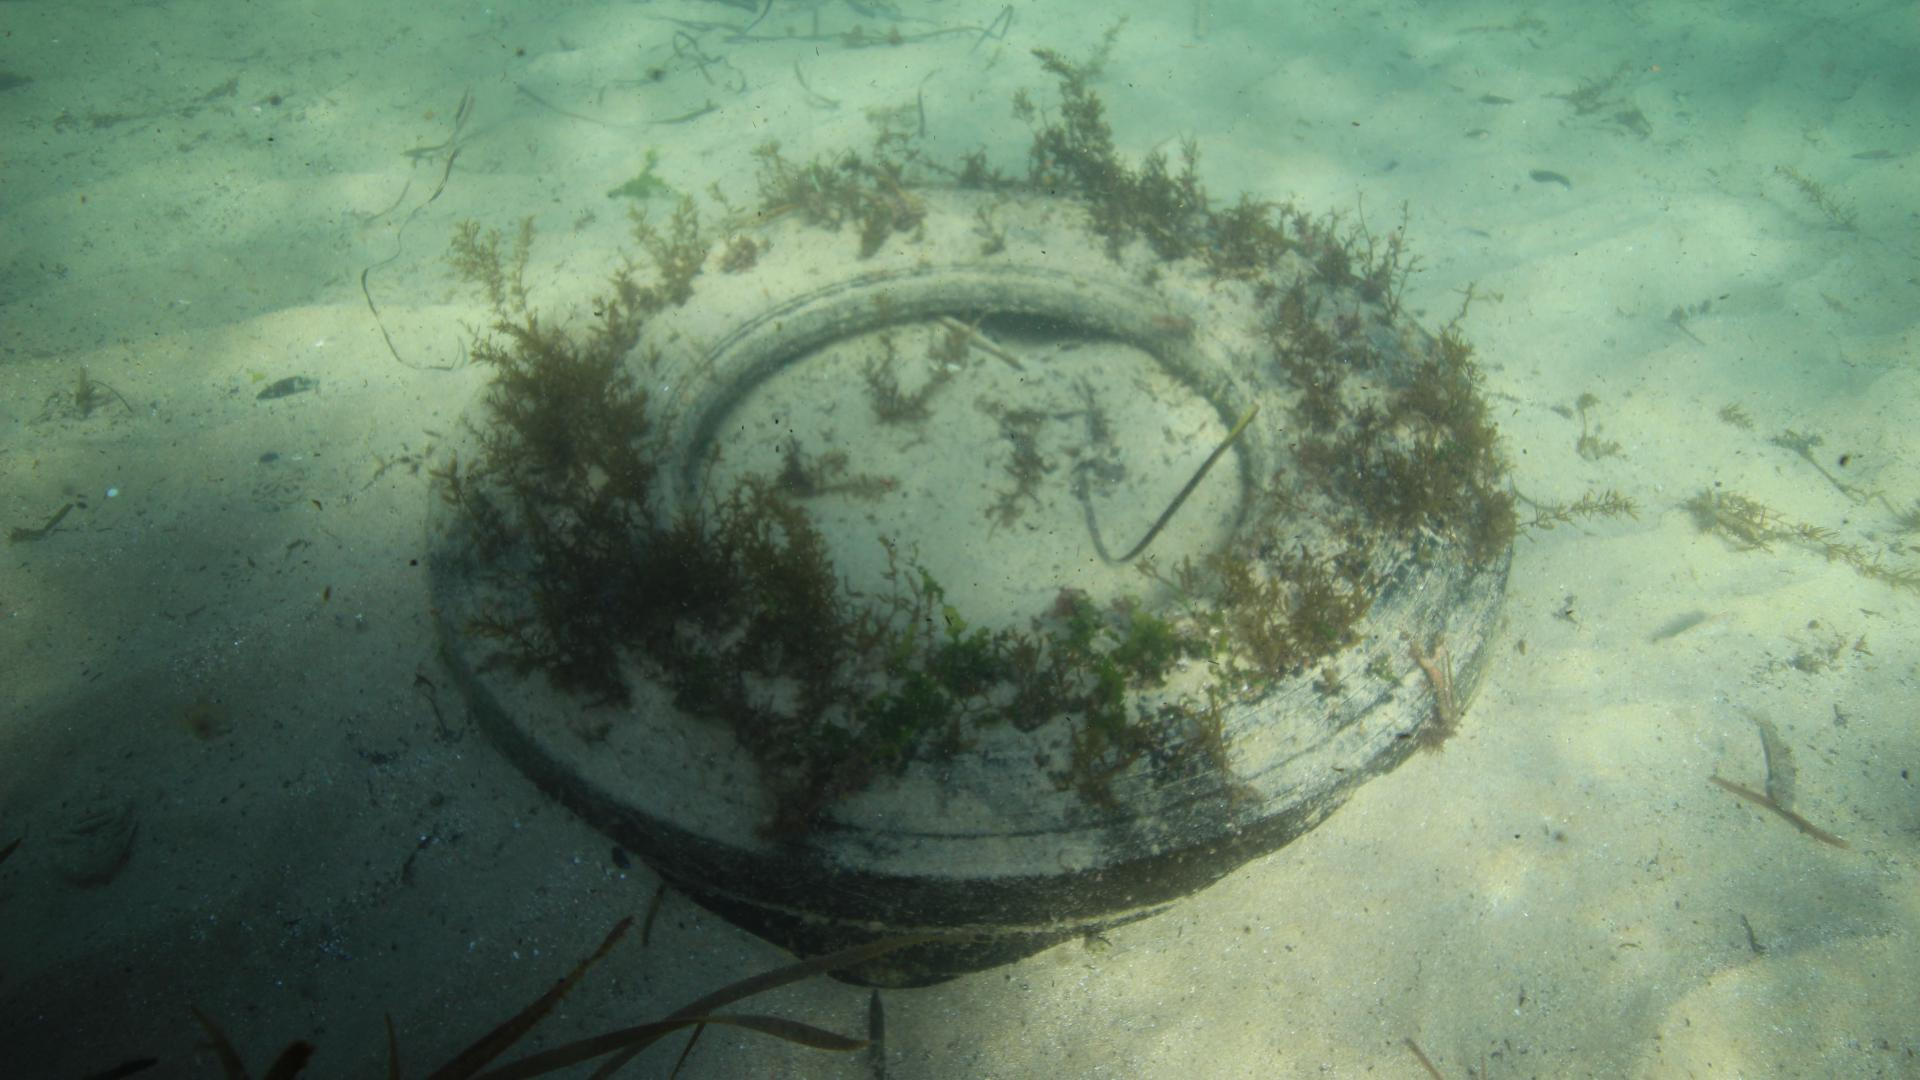tire: (423, 185, 1515, 988)
